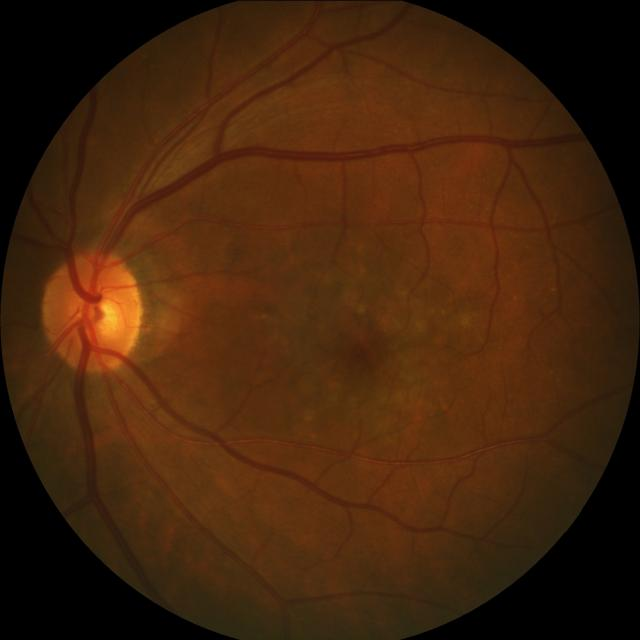OC: (70, 289, 124, 346)
OD: (41, 249, 141, 372)
